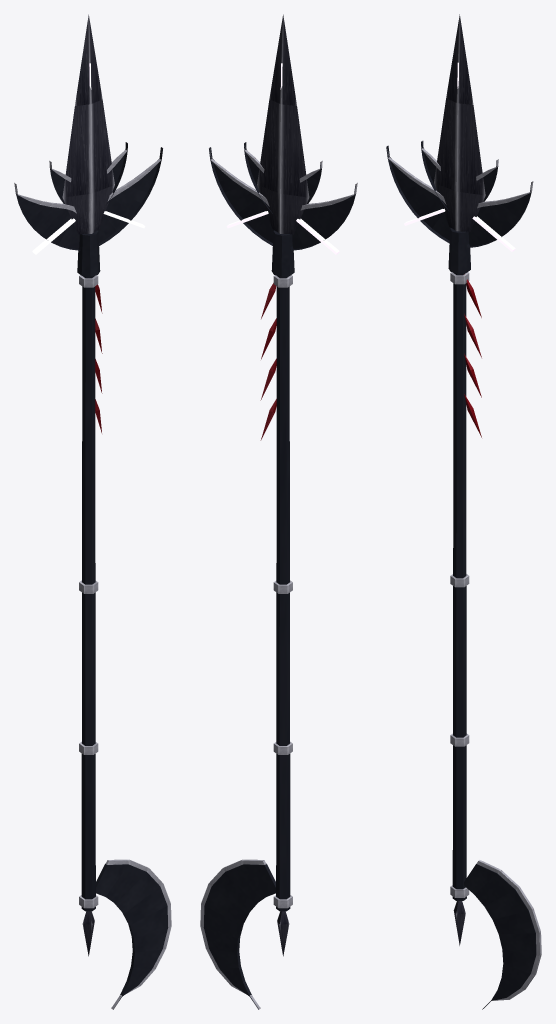
The model's file is DragonLance.fbx.
The picture shows the model from 3 angles, left to right: view 1: azimuth 30°, elevation 25°; view 2: azimuth 150°, elevation 25°; view 3: azimuth 330°, elevation 25°; orthographic projection.
Visible parts, largest first — view 1: Head, Handle, Glow; view 2: Head, Handle, Glow; view 3: Head, Handle, Glow.
Boxes of the visible parts, <box> form: Head: <box>14,14,171,1009</box>; Handle: <box>79,275,98,911</box>; Glow: <box>32,63,145,254</box>; Head: <box>200,14,357,1009</box>; Handle: <box>273,275,292,911</box>; Glow: <box>226,63,339,254</box>; Head: <box>386,14,541,1009</box>; Handle: <box>450,272,469,900</box>; Glow: <box>404,62,515,251</box>.
Bounding box in the file's own units: 202 × 1242 × 24.02.
2 materials, 1 textured.
